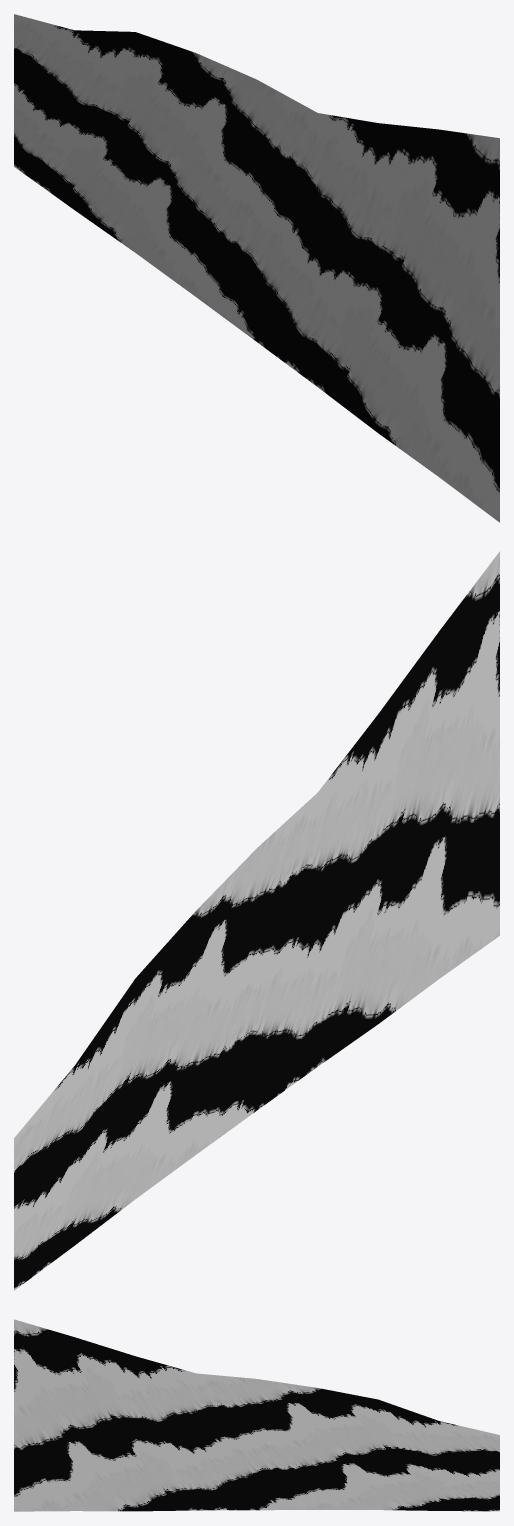
File: feng.FBX
3 views of the same model, one above another, from view 1: azimuth 30°, elevation 25°; view 2: azimuth 150°, elevation 25°; view 3: azimuth 270°, elevation 25° (orthographic). The views are drawn at different scales.
Visible parts, largest first — view 1: Plane003; view 2: Plane003; view 3: Plane003.
Boxes of the visible parts, x1=… form: Plane003: x1=14, y1=14, x2=499, y2=522; Plane003: x1=14, y1=551, x2=499, y2=1290; Plane003: x1=14, y1=1319, x2=499, y2=1511.
Bounding box in the file's own units: 0.000178 × 473 × 1084.
